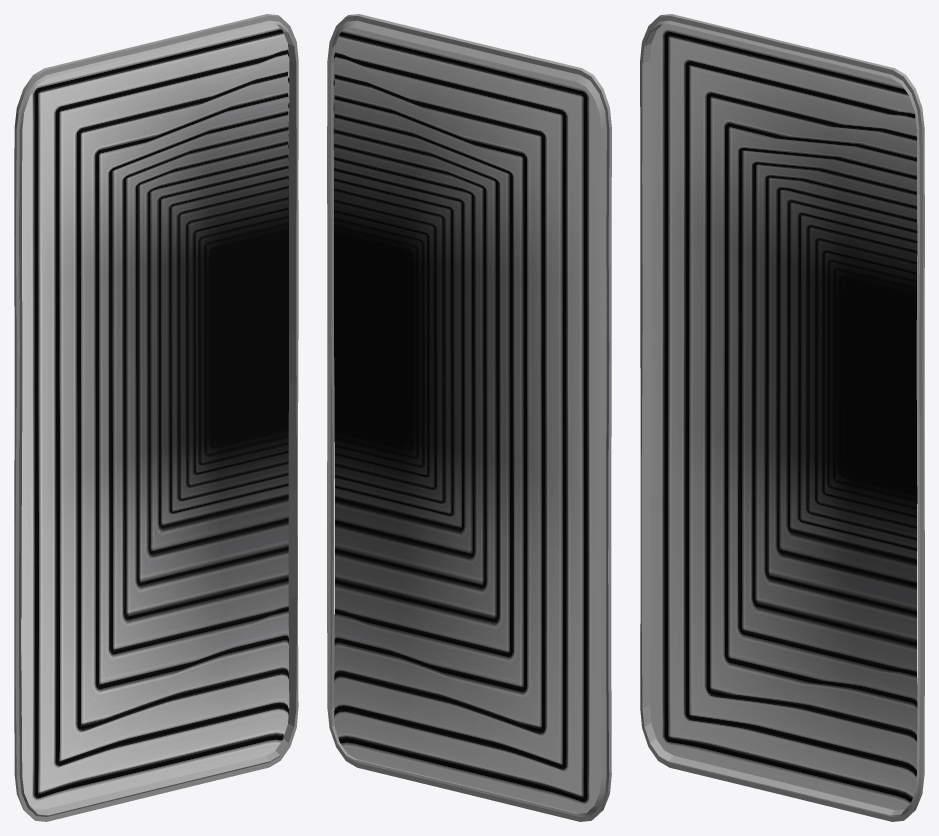
Rendered from portal.fbx.
3 views of the same model, side by side, from view 1: azimuth 30°, elevation 25°; view 2: azimuth 150°, elevation 25°; view 3: azimuth 330°, elevation 25° (orthographic).
Parts seen in each view (by area): view 1: placeholder_portal, portal_frame; view 2: placeholder_portal, portal_frame; view 3: placeholder_portal, portal_frame.
Part boxes in pixels (x1,y1,x2,y2): placeholder_portal: (21, 24, 289, 809); portal_frame: (14, 14, 298, 821); placeholder_portal: (333, 28, 601, 813); portal_frame: (327, 14, 611, 821); placeholder_portal: (650, 24, 917, 810); portal_frame: (640, 14, 924, 821).
Bounding box in the file's own units: 81.61 × 207 × 3.32.
2 materials, 1 textured.
